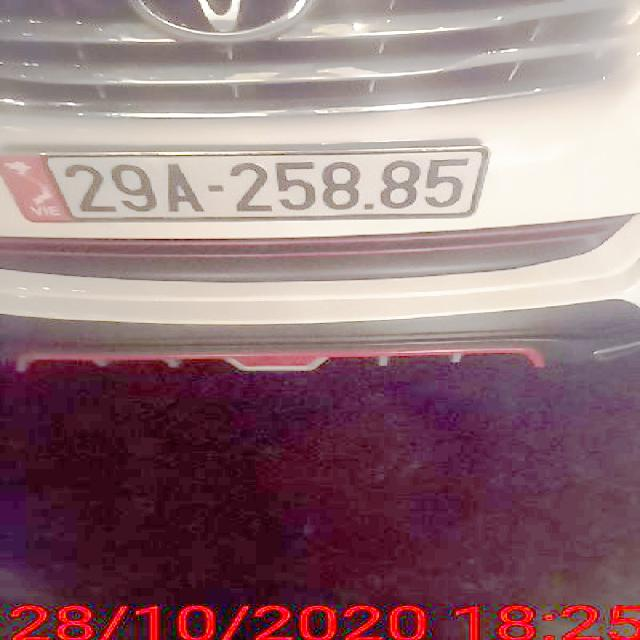license_plate: (6, 150, 492, 225)
